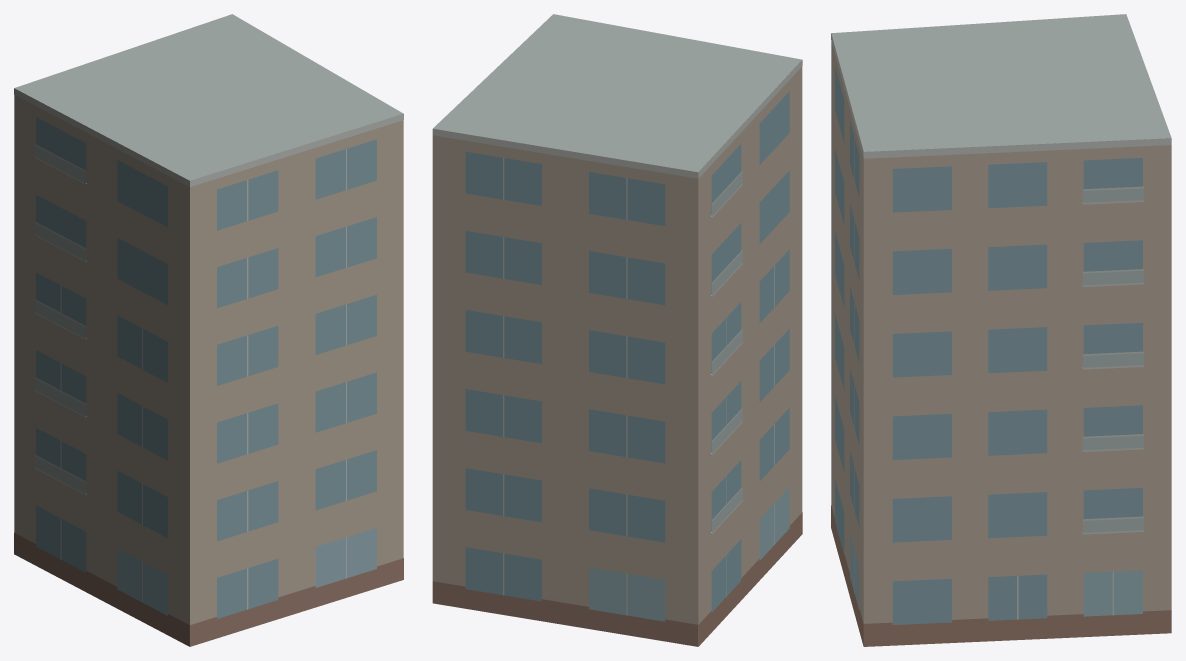
File: survey-upis-32746711.glb
The picture shows the model from 3 angles, left to right: view 1: azimuth 30°, elevation 25°; view 2: azimuth 150°, elevation 25°; view 3: azimuth 270°, elevation 25°; orthographic projection. The views are drawn at different scales.
Visible parts, largest first — view 1: survey-upis-32746711.tmp; view 2: survey-upis-32746711.tmp; view 3: survey-upis-32746711.tmp.
Part boxes in pixels (x1,y1,x2,y2): survey-upis-32746711.tmp: (14, 14, 403, 646); survey-upis-32746711.tmp: (432, 14, 802, 646); survey-upis-32746711.tmp: (831, 14, 1171, 646).
Size of the model in its own units: 10.59 by 17.7 by 11.05.
